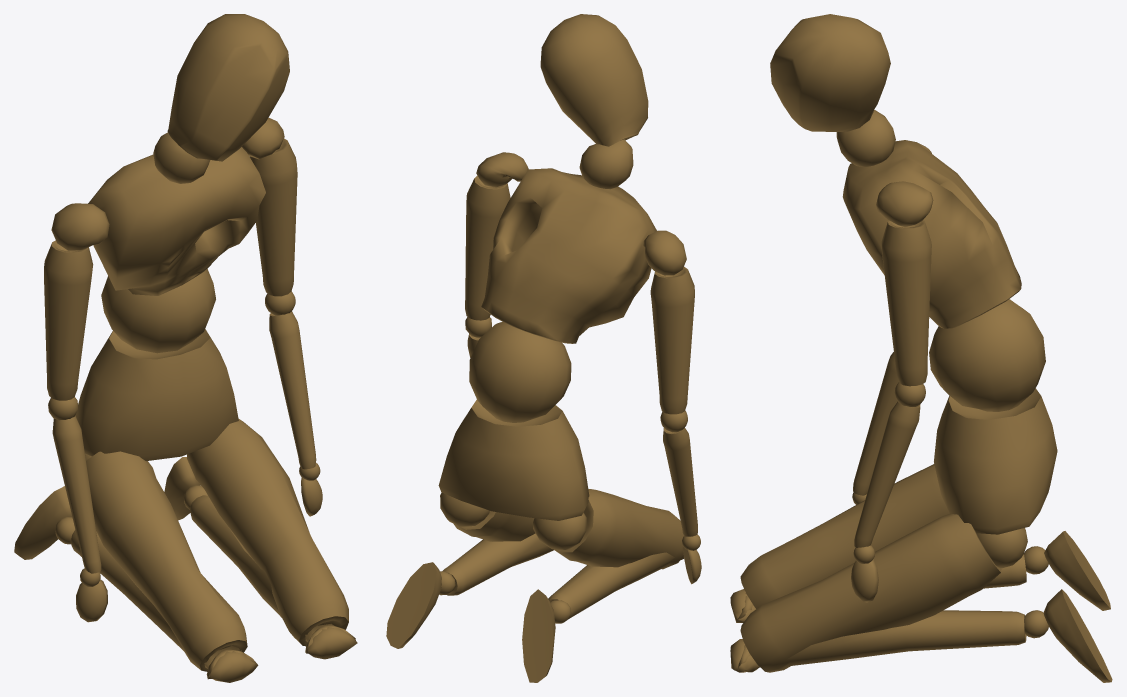
The model's file is maniqui_pose13.fbx.
3 renders of one model, left to right at view 1: azimuth 30°, elevation 25°; view 2: azimuth 150°, elevation 25°; view 3: azimuth 270°, elevation 25°, orthographic. The views are drawn at different scales.
Visible parts, largest first — view 1: dummy_obj.005; view 2: dummy_obj.005; view 3: dummy_obj.005.
Boxes of the visible parts, x1,y1,x2,y2 form: dummy_obj.005: (14, 14, 357, 682); dummy_obj.005: (386, 14, 701, 682); dummy_obj.005: (730, 14, 1112, 682).
Size of the model in its own units: 42 by 97.36 by 53.44.
